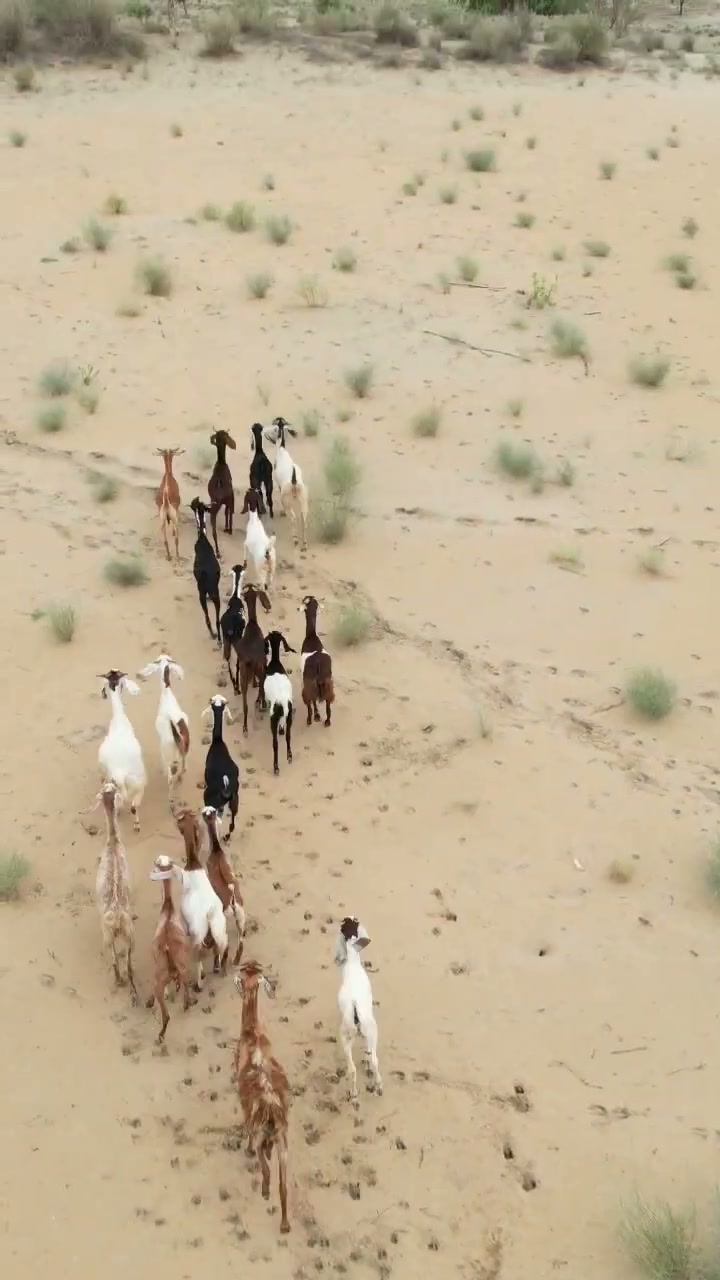animal_foot_print: (188, 720, 406, 1279)
